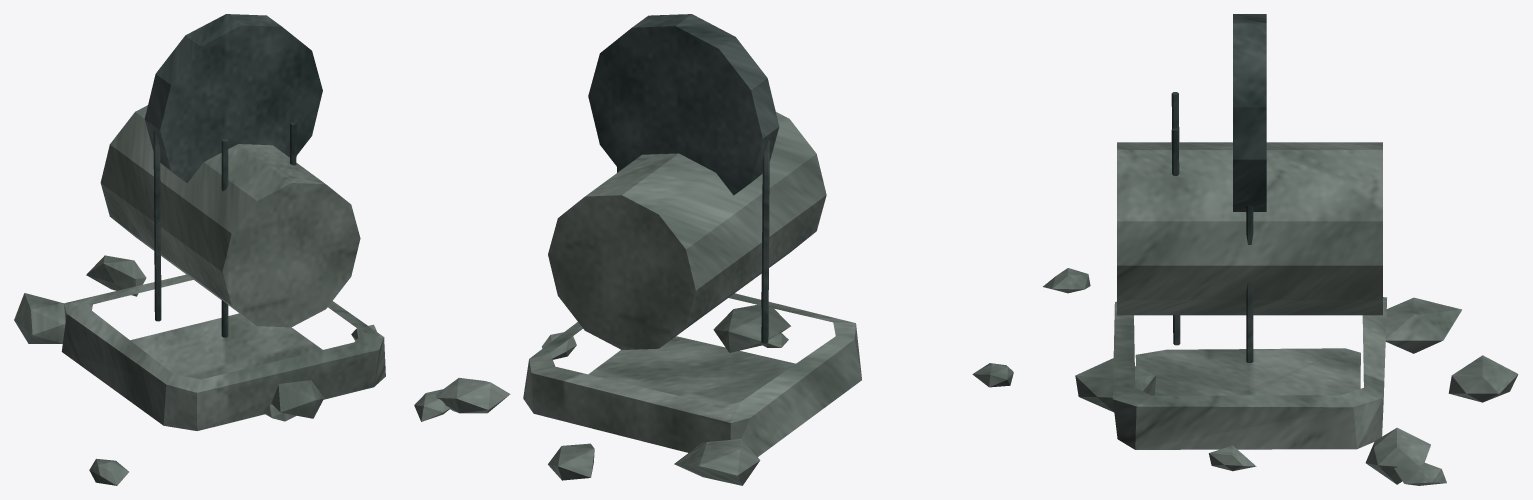
Rendered from 0265_broken_column_15.glb.
The picture shows the model from 3 angles, left to right: view 1: azimuth 30°, elevation 25°; view 2: azimuth 150°, elevation 25°; view 3: azimuth 270°, elevation 25°; orthographic projection. The views are drawn at different scales.
Visible parts, largest first — view 1: stone, stone_dark; view 2: stone, stone_dark; view 3: stone, stone_dark.
Part boxes in pixels (<box>): stone: <box>14,105,385,485</box>; stone_dark: <box>144,14,322,337</box>; stone: <box>414,112,1013,485</box>; stone_dark: <box>588,14,779,343</box>; stone: <box>1043,142,1518,485</box>; stone_dark: <box>1171,14,1266,362</box>.
Size of the model in its own units: 2.21 by 1.88 by 2.12.
2 materials, 2 textured.
